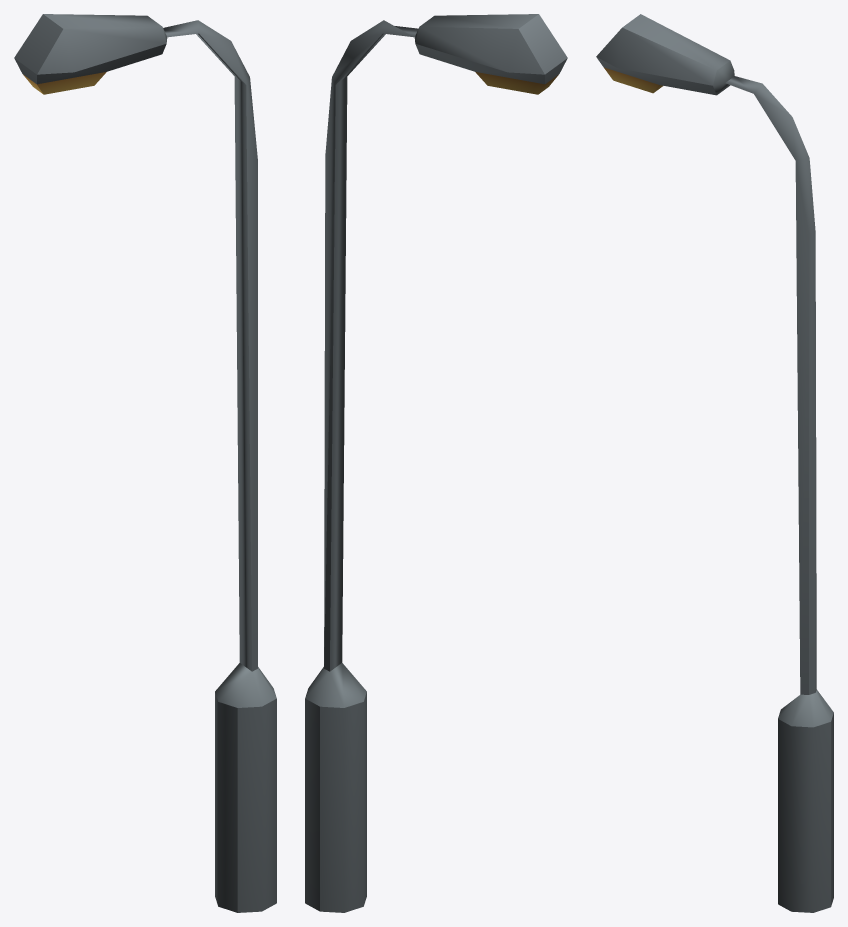
Rendered from streetlight.glb.
The picture shows the model from 3 angles, left to right: view 1: azimuth 30°, elevation 25°; view 2: azimuth 150°, elevation 25°; view 3: azimuth 330°, elevation 25°; orthographic projection. The views are drawn at different scales.
Parts seen in each view (by area): view 1: streetlight; view 2: streetlight; view 3: streetlight.
Boxes of the visible parts, <box> form: streetlight: <box>14,14,276,912</box>; streetlight: <box>305,14,567,912</box>; streetlight: <box>596,14,833,912</box>.
Size of the model in its own units: 0.2693 by 0.9599 by 0.069.
